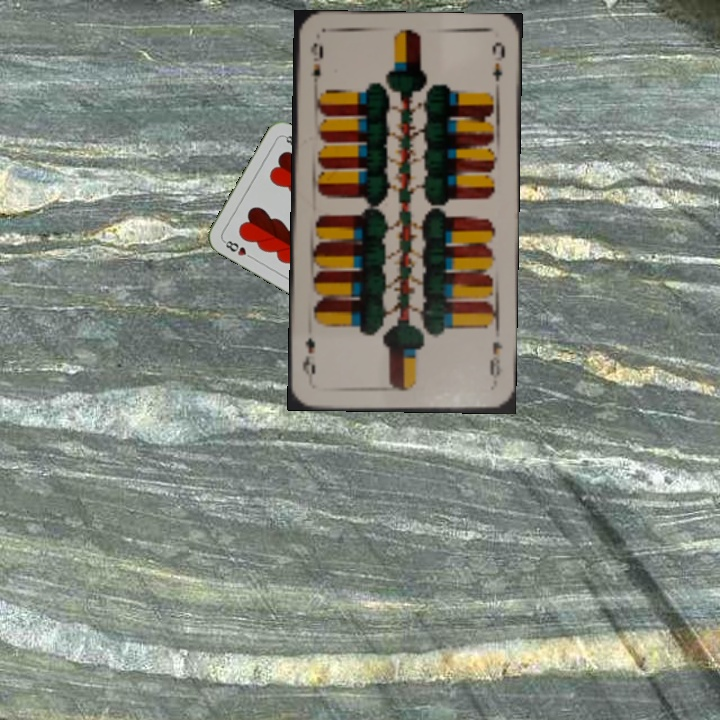E9: (306, 39, 326, 94), (486, 337, 505, 382)
H8: (219, 236, 257, 262)
